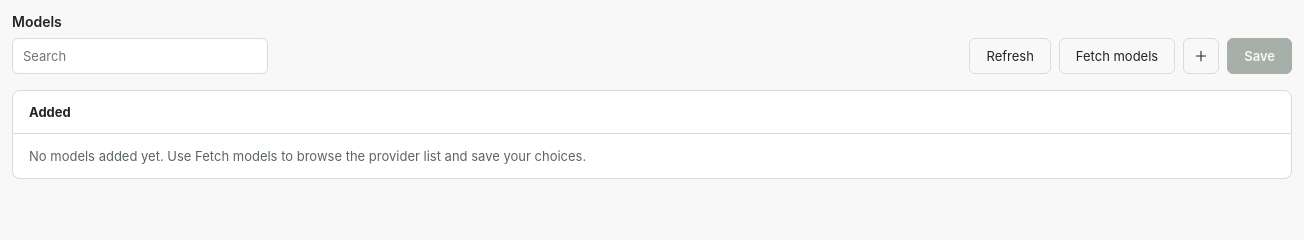
Test: ProviderModels › enters upstream browse when Fetch models is clicked
The image size is (1304, 240).
Expected: the text "No models added yet" is shown, [29, 148, 586, 164]
Click the button "Fetch models" at (1117, 56), box [1059, 38, 1175, 74]
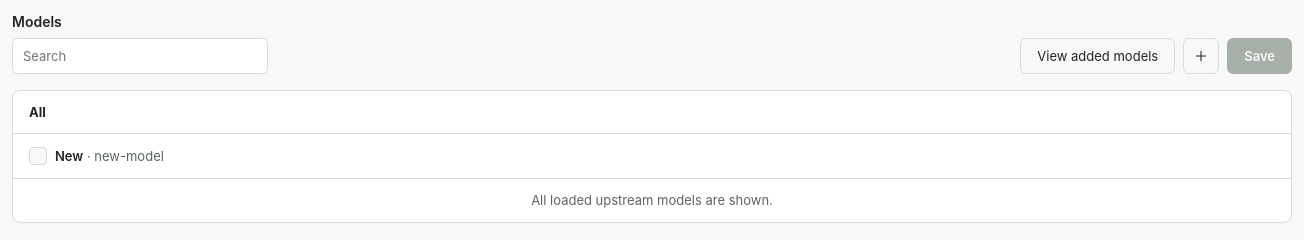
Expected: the text "New" is shown, [55, 148, 83, 164]
